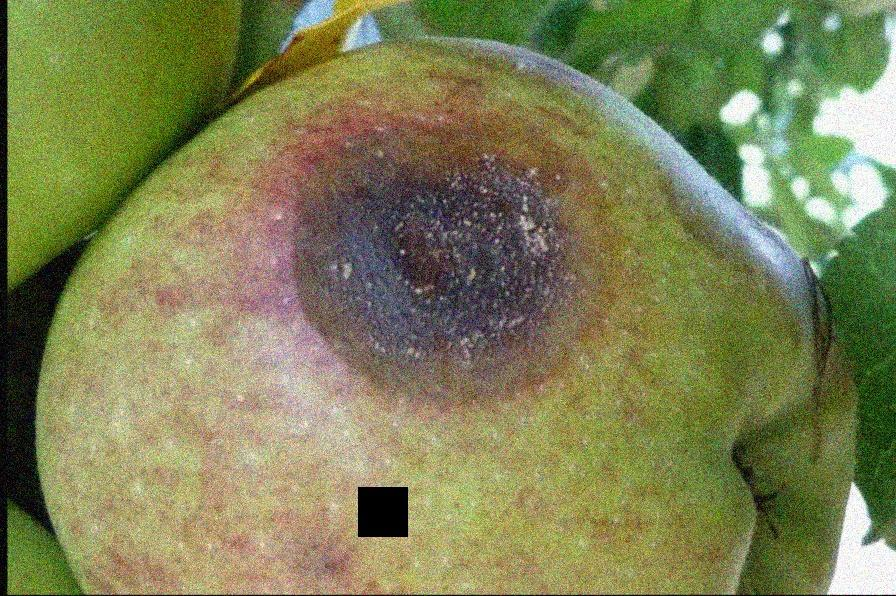rotten apple: (28, 31, 863, 594)
